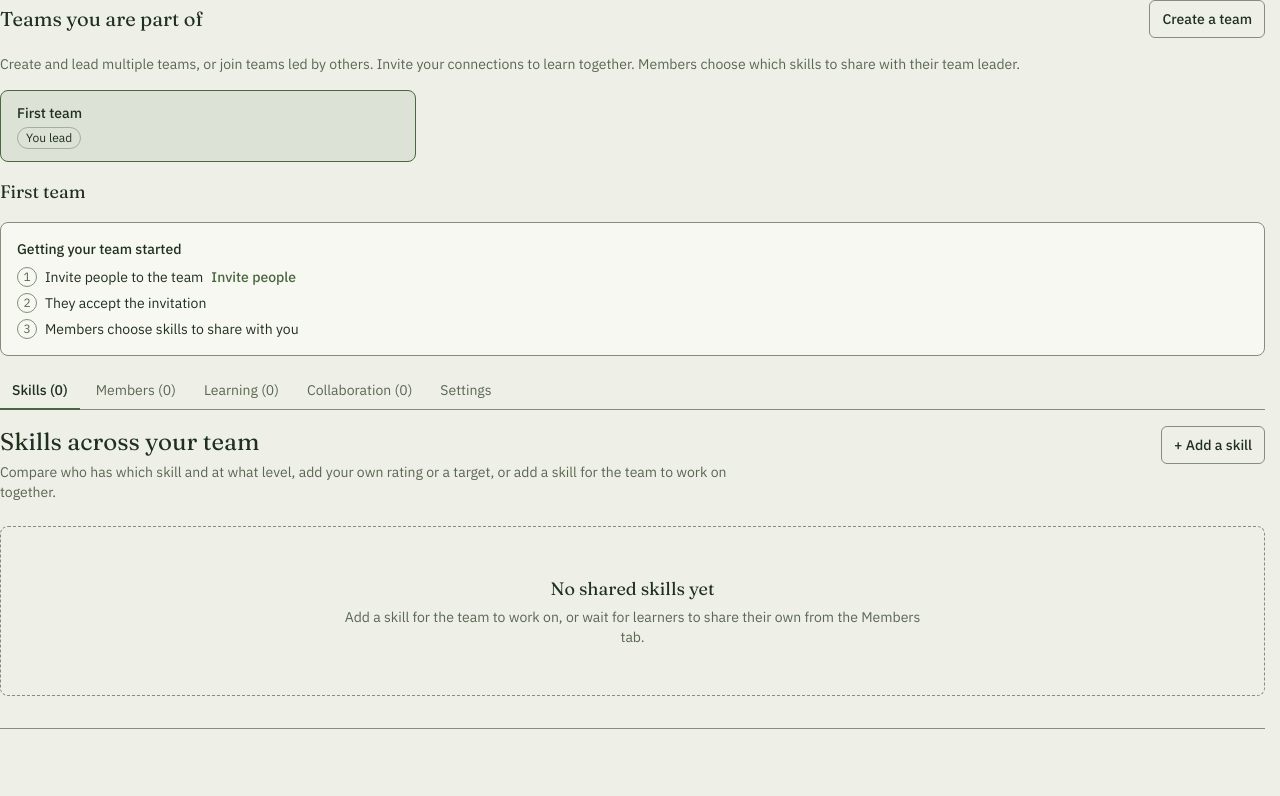
Connections teams › transfers leadership only to a selected active member and removes leader controls
The width and height of the screenshot is (1280, 796).
Click the tab "Settings" at (466,391), box [428,372,504,410]
(page scrolled)
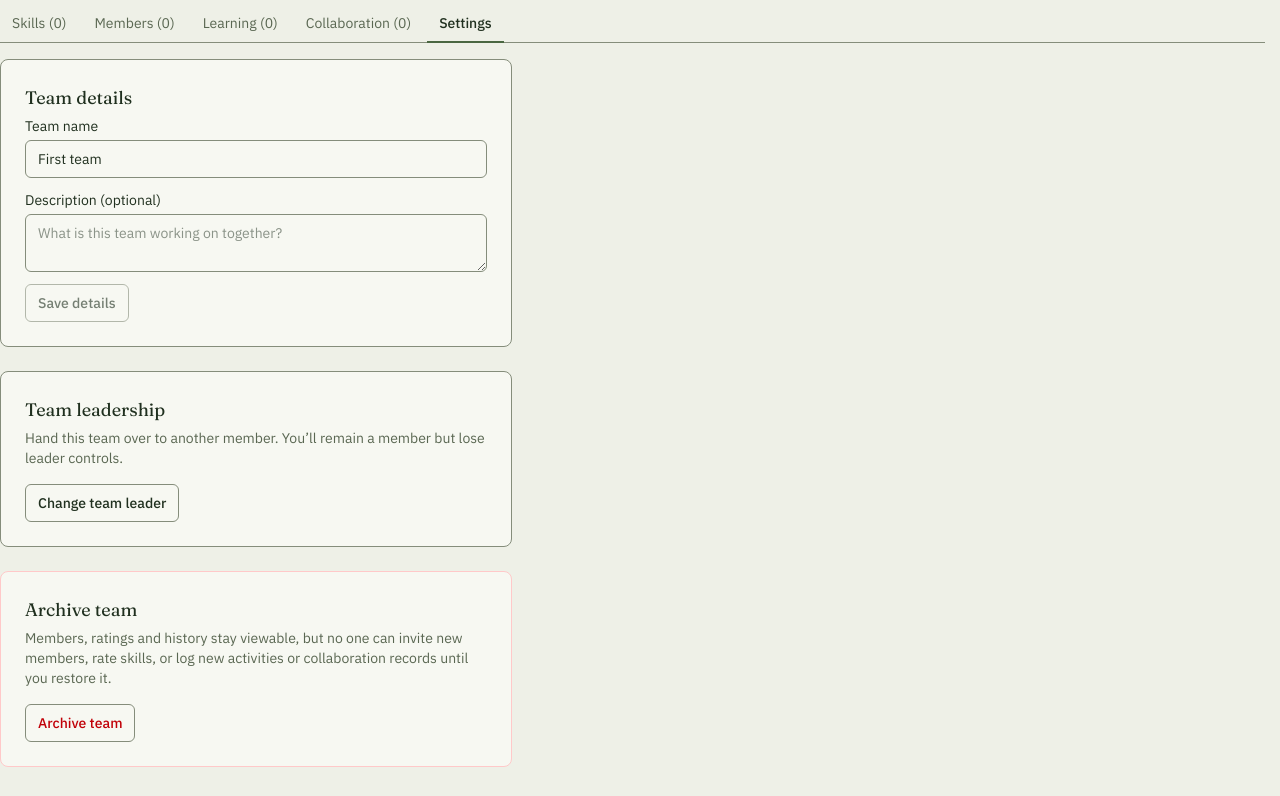
Check: the button "Change team leader" is enabled
Click the button "Change team leader" at (102,503), box [25,484,179,522]
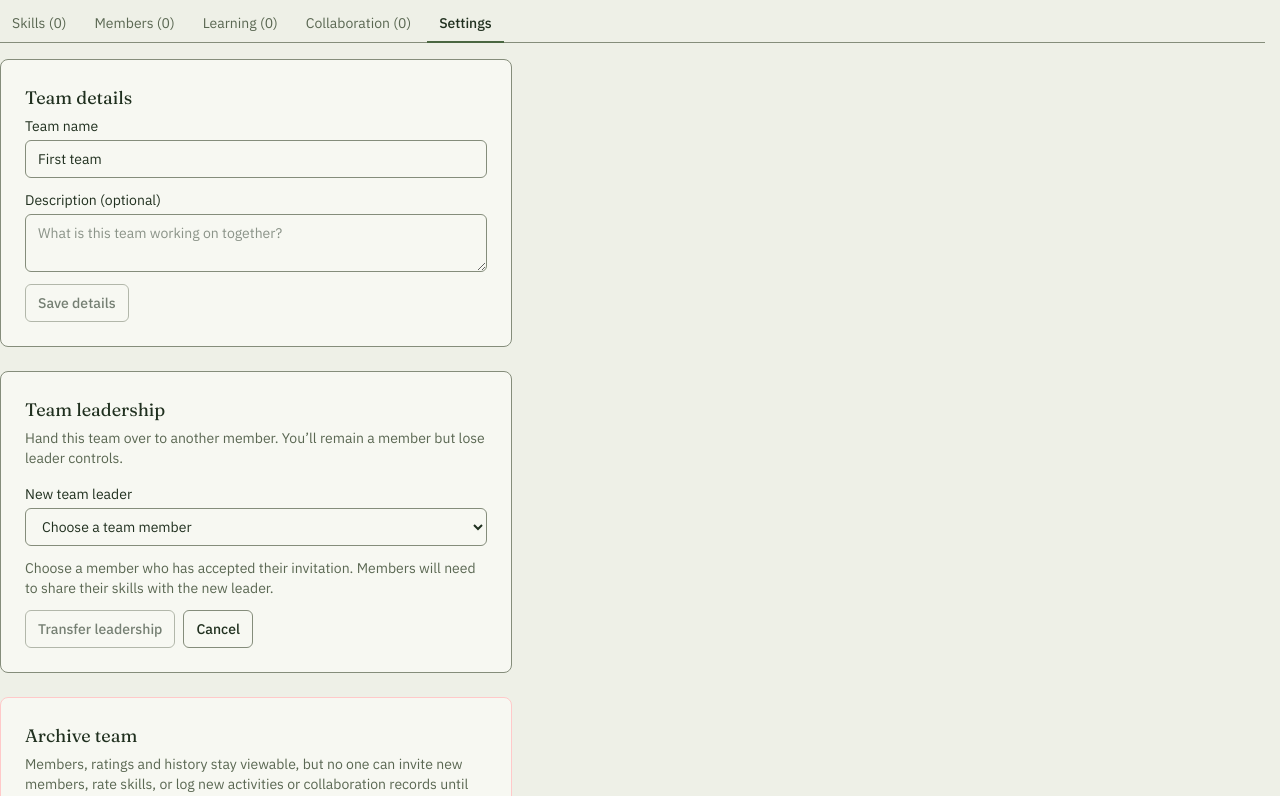
Select "Alex" in the dropdown labelled "New team leader" at (256,527), box [25,508,487,546]
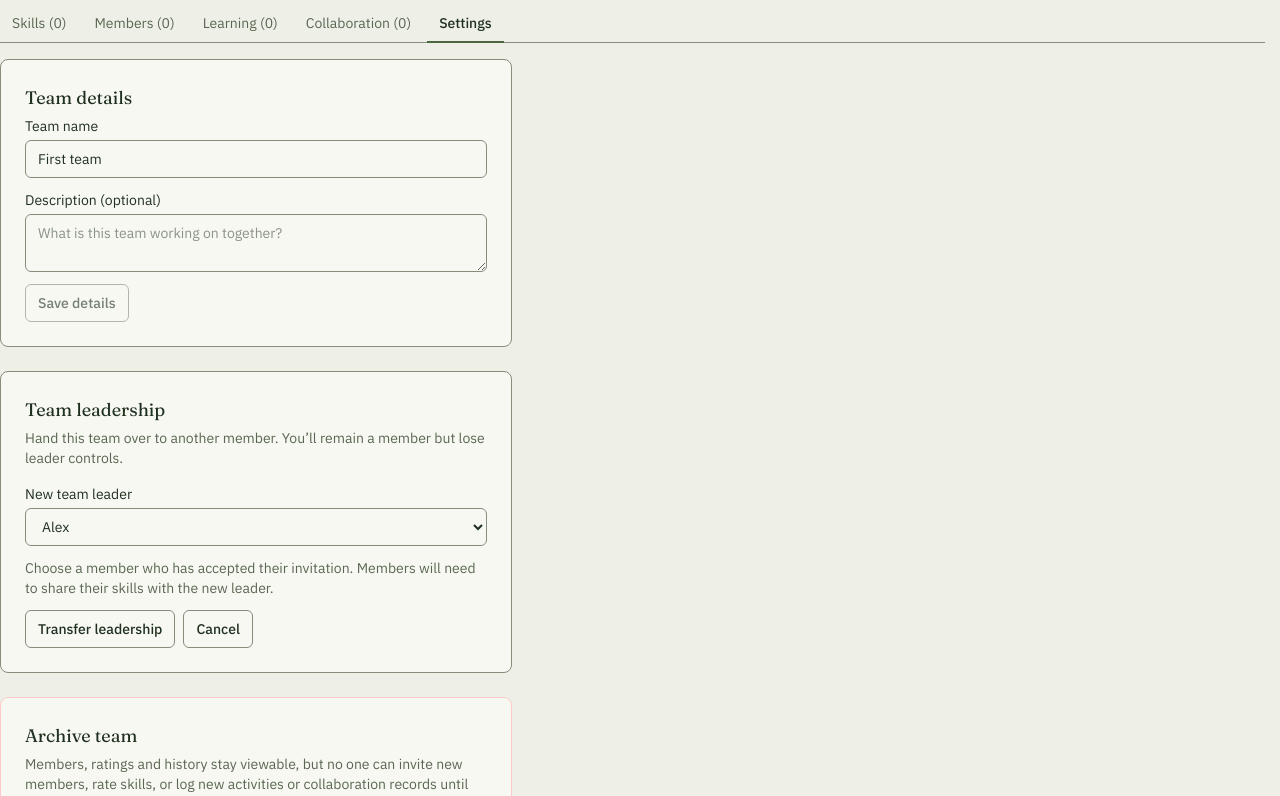
Click the button "Transfer leadership" at (100,629), box [25,610,175,648]
(page scrolled)
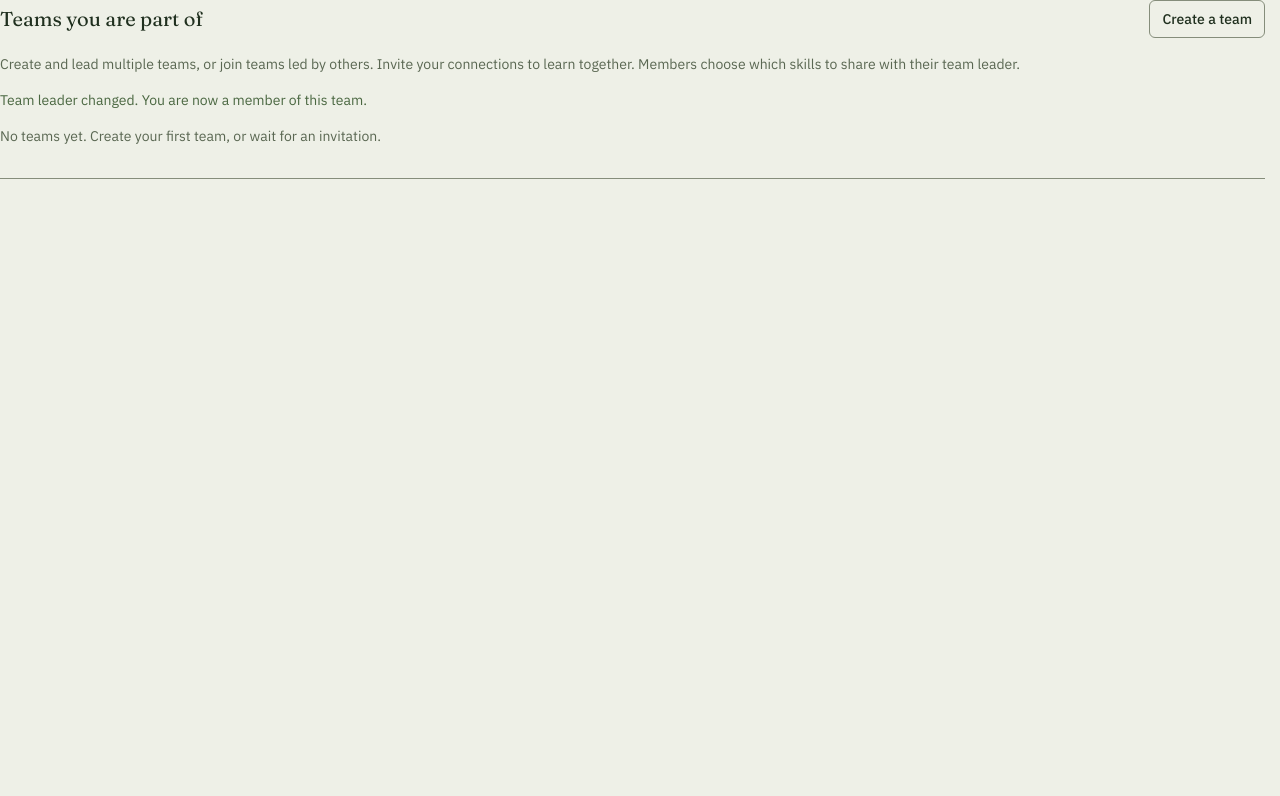
Check: the button "Change team leader" is not shown
Check: the text "Team leader changed. You are now a member of this team." is shown, box [0,91,367,109]
